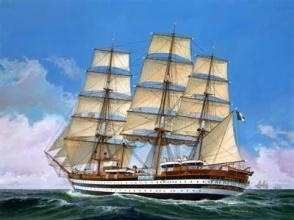fanchuan: (45, 25, 258, 200)
